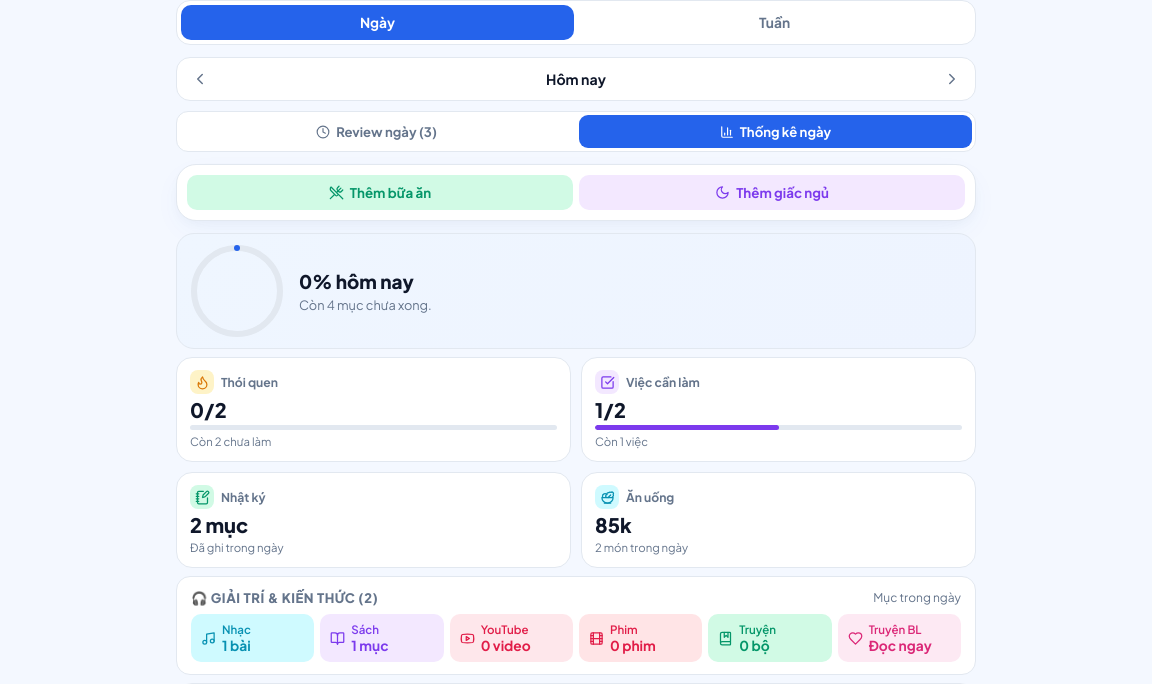
Test: HomePage › chuyển sang báo cáo tuần với biểu đồ bảy ngày
Click the tab "Tuần".
click(774, 22)  # box x1=578 y1=5 x2=971 y2=40
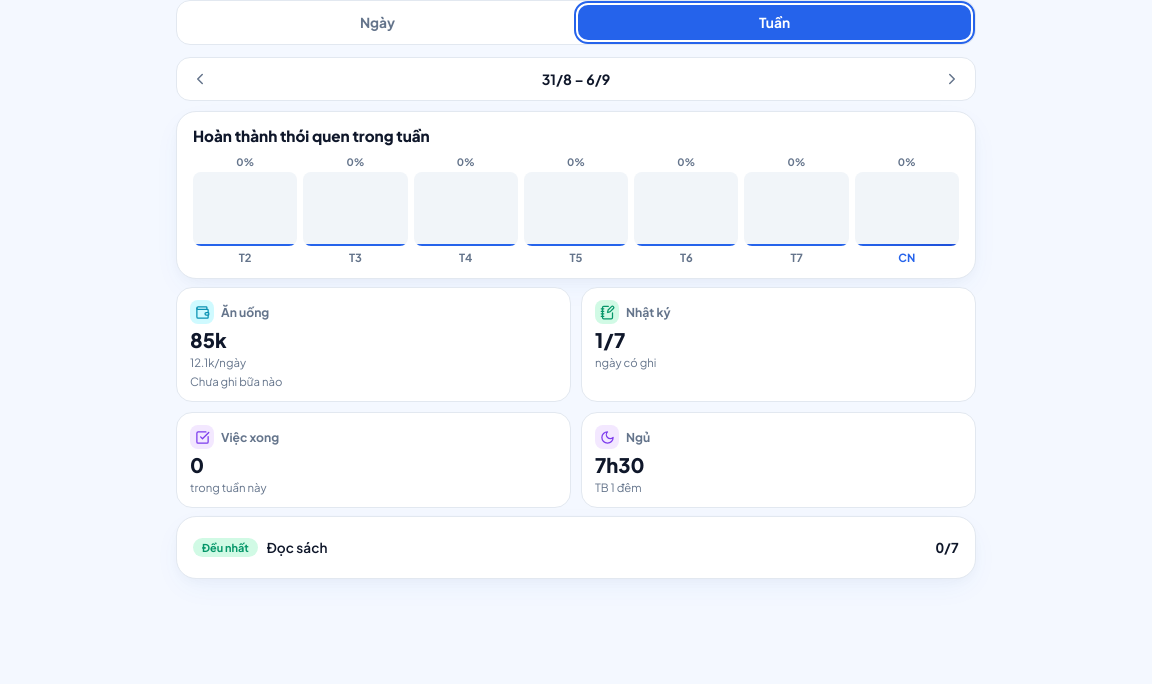
Check: the heading "Hoàn thành thói quen trong tuần" is shown, box x1=193 y1=126 x2=430 y2=145
Check: the text "T2" is shown, box x1=239 y1=250 x2=252 y2=264
Check: the text "T3" is shown, box x1=349 y1=250 x2=362 y2=264
